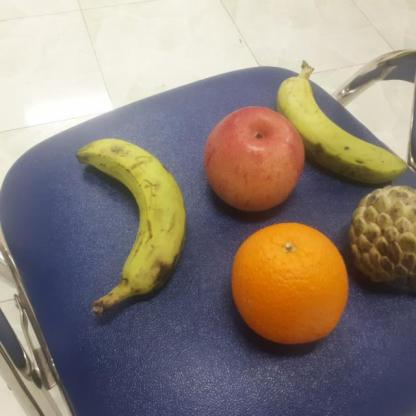annona: (345, 184, 416, 288)
apple: (201, 105, 307, 212)
banana: (75, 132, 189, 294), (275, 73, 411, 184)
orange: (226, 219, 349, 350)
